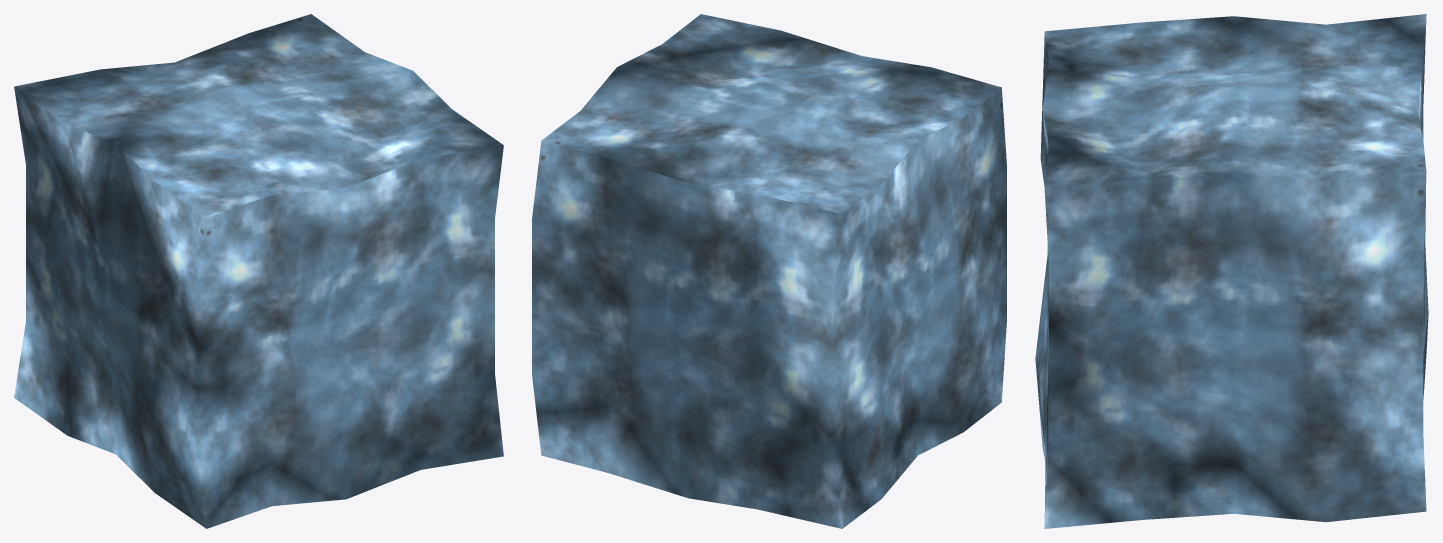
The model's file is ice.glb.
3 renders of one model, left to right at view 1: azimuth 30°, elevation 25°; view 2: azimuth 150°, elevation 25°; view 3: azimuth 270°, elevation 25°, orthographic. The views are drawn at different scales.
Parts seen in each view (by area): view 1: Cube.001; view 2: Cube.001; view 3: Cube.001.
Boxes of the visible parts, left/top/right/bottom form: Cube.001: left=14, top=14, right=503, bottom=528; Cube.001: left=532, top=14, right=1006, bottom=528; Cube.001: left=1035, top=14, right=1428, bottom=528.
Size of the model in its own units: 1.07 by 1.06 by 1.05.
Materials: 1 (1 with a texture image).
